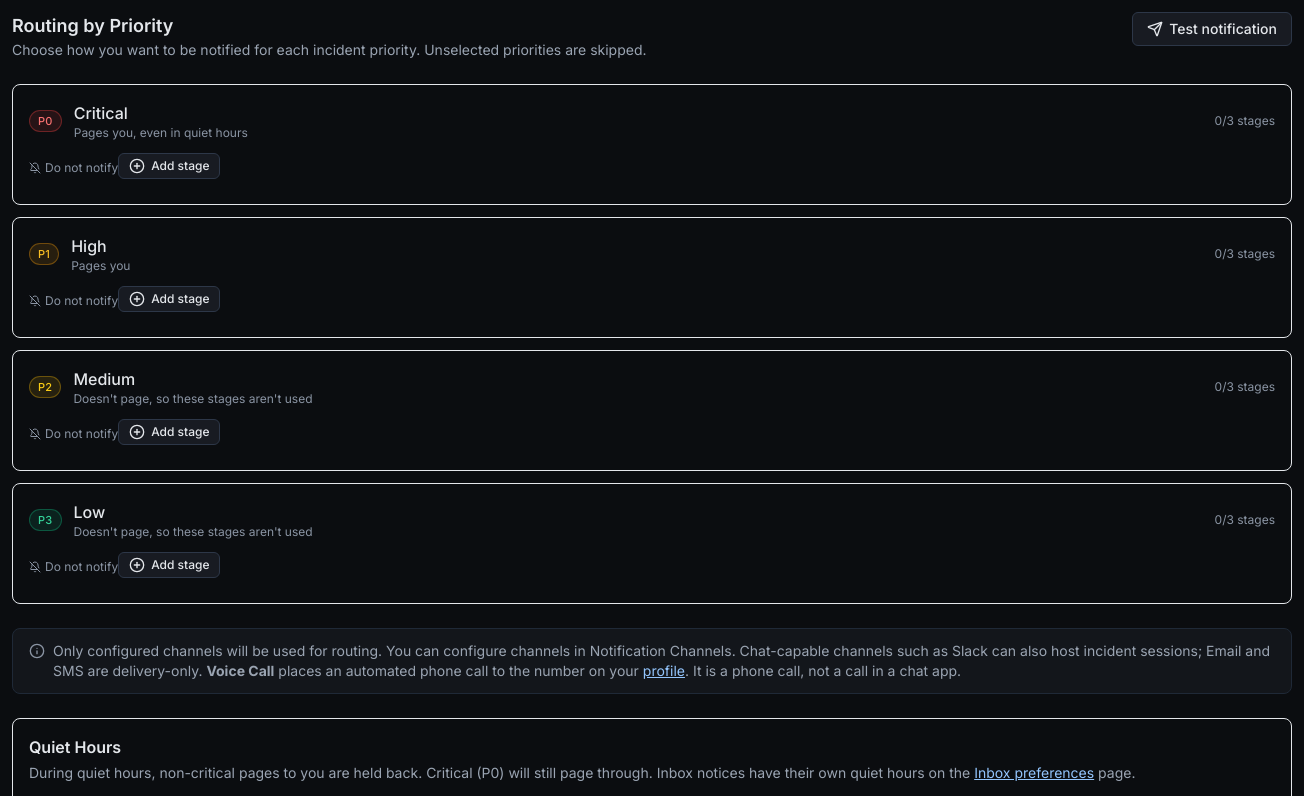
Test: My Routing while Teams delivery is being rebuilt › offers neither a Teams connector nor a Teams DM as a new stage
Click the button "Add stage" below "Pages you, even in quiet hours": x=169, y=166 [118,153,220,179]
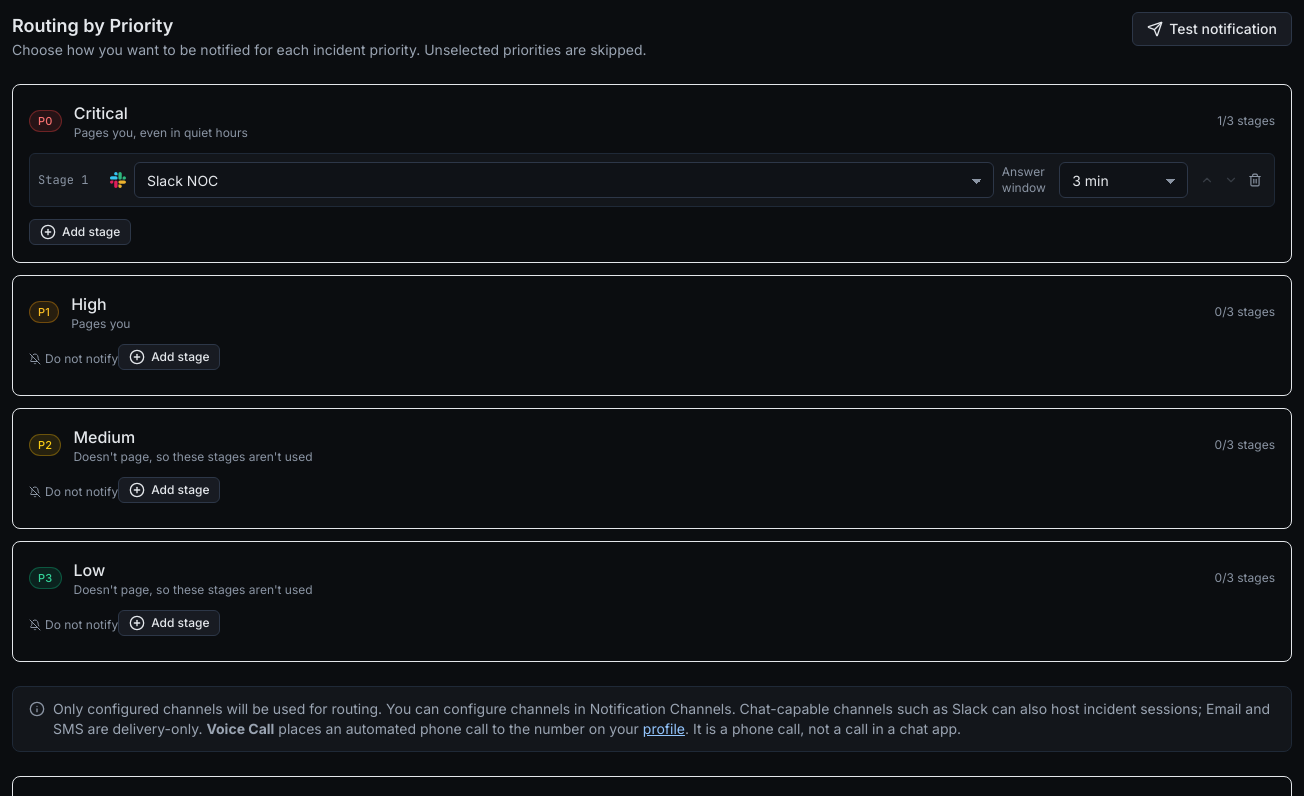
expect the dropdown named "P0 stage 1 channel" shows "Slack NOC": met, box [134,162,994,198]
